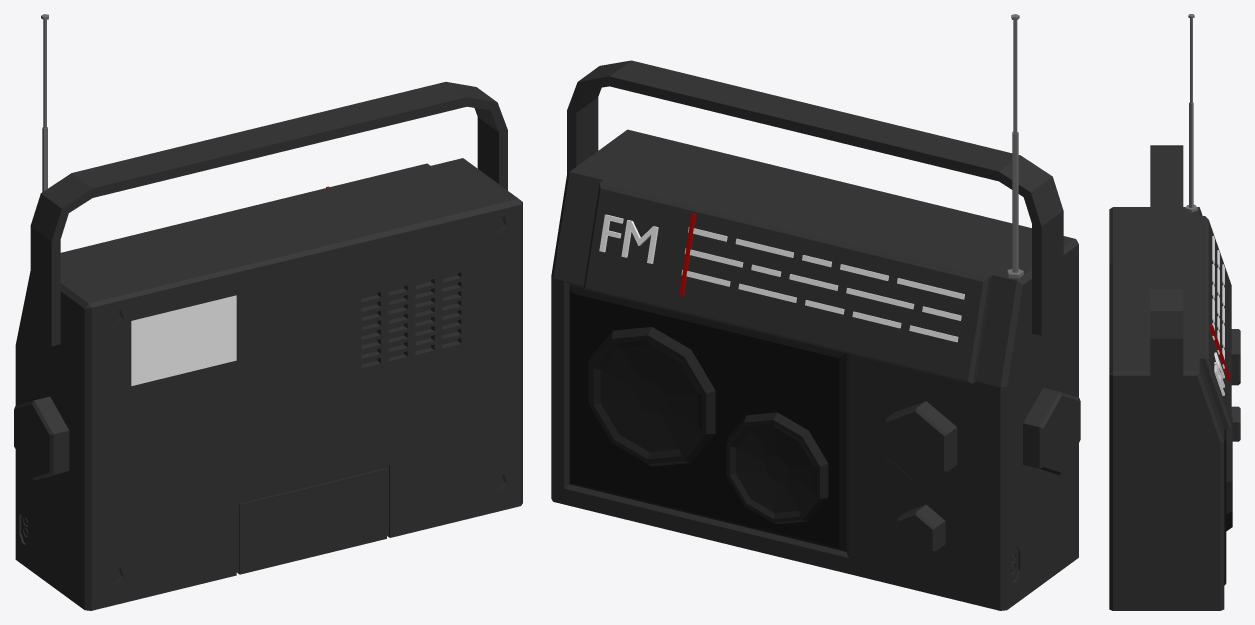
The model's file is Resources__items__purchasable__Radio.glb.
The picture shows the model from 3 angles, left to right: view 1: azimuth 30°, elevation 25°; view 2: azimuth 150°, elevation 25°; view 3: azimuth 270°, elevation 25°; orthographic projection. The views are drawn at different scales.
Parts seen in each view (by area): view 1: Radio; view 2: Radio; view 3: Radio, RadioStick.
Part boxes in pixels (x1=…): Radio: x1=14, y1=14, x2=522, y2=610; Radio: x1=551, y1=14, x2=1080, y2=610; Radio: x1=1109, y1=14, x2=1240, y2=610; RadioStick: x1=1209, y1=325, x2=1231, y2=381.
Size of the model in its own units: 0.51 by 0.581 by 0.16.
1 material, 1 textured.
